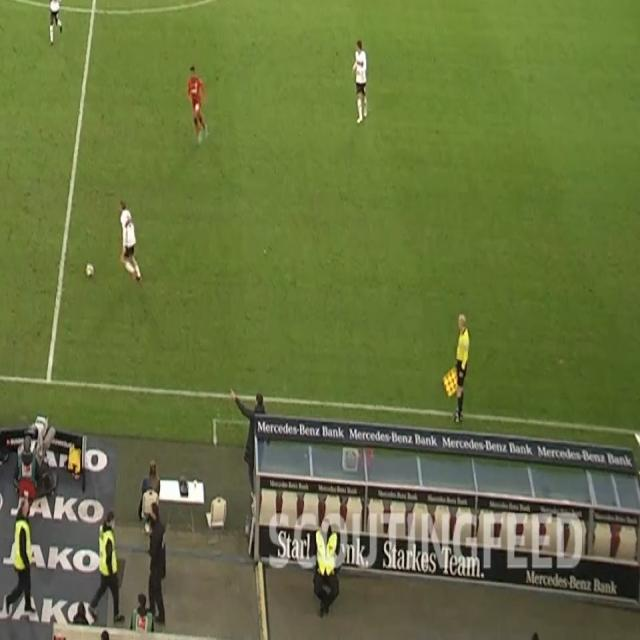ball: (85, 261, 95, 279)
